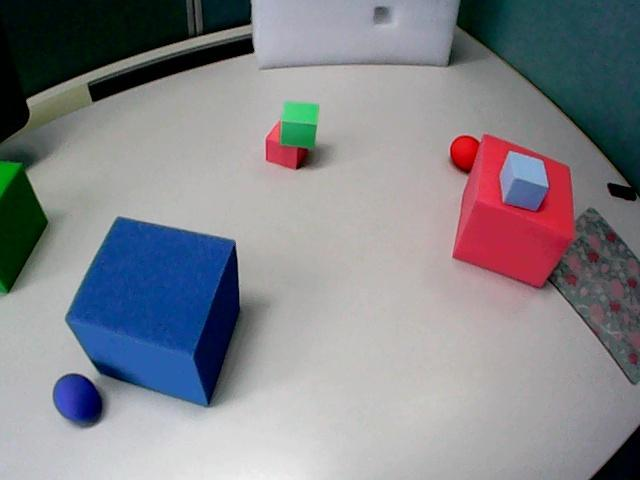blue_block: (66, 217, 239, 405), (500, 152, 548, 210)
red_block: (453, 134, 574, 287), (266, 121, 307, 168)
